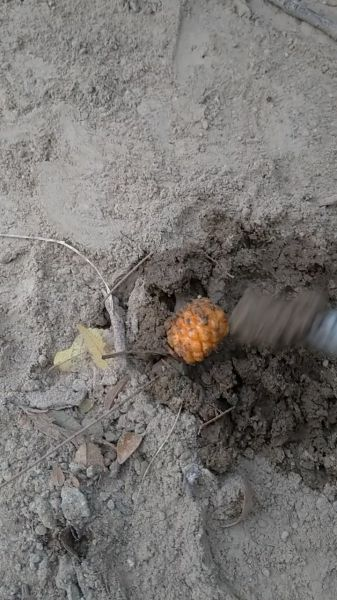eggs: (162, 295, 230, 359)
